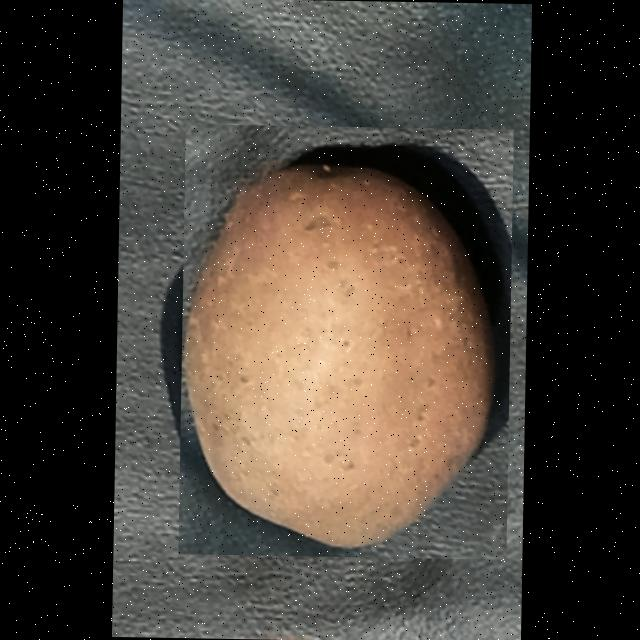Diseased-fungal potato: (177, 123, 512, 560)
